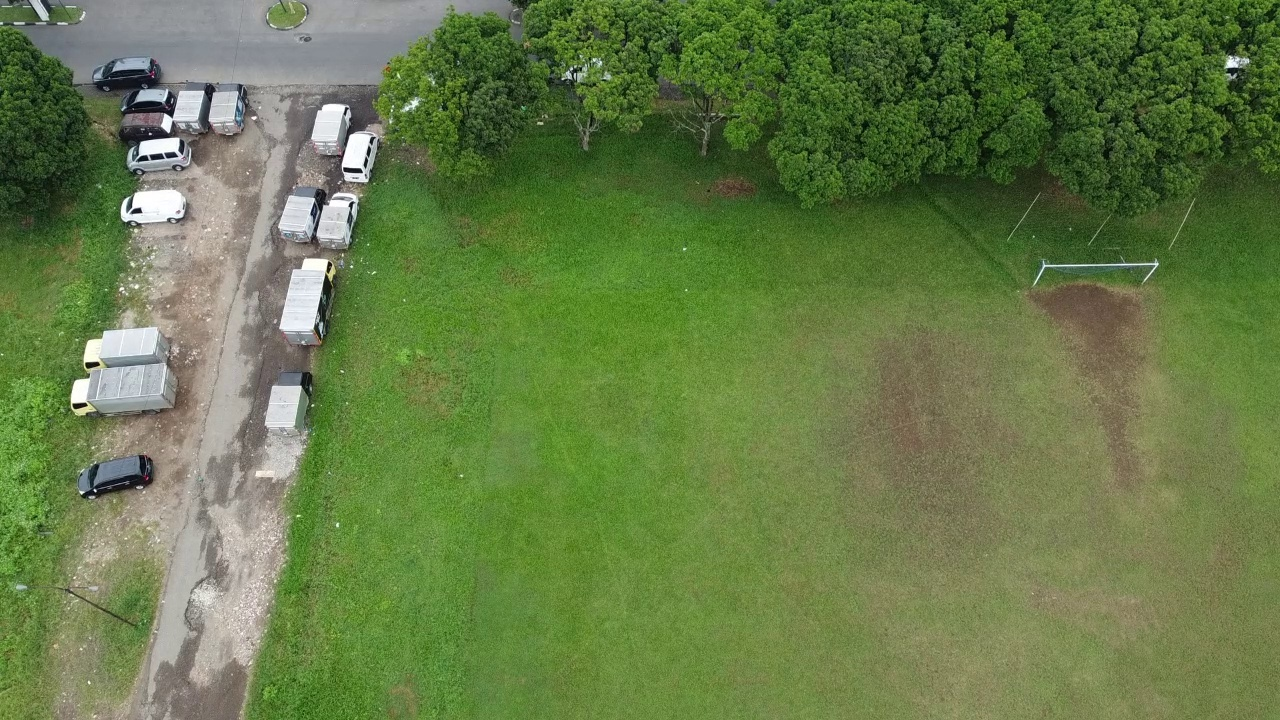mobil: (73, 456, 157, 500), (116, 186, 194, 228), (92, 48, 164, 93), (338, 124, 386, 189), (127, 137, 200, 178), (117, 84, 179, 122), (116, 110, 178, 144)
